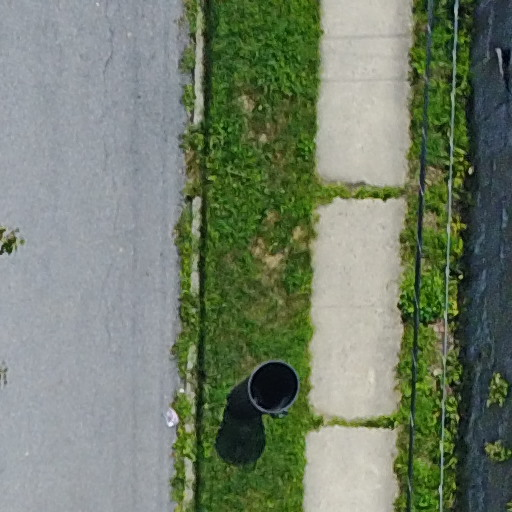garbage bin: (225, 346, 302, 427)
